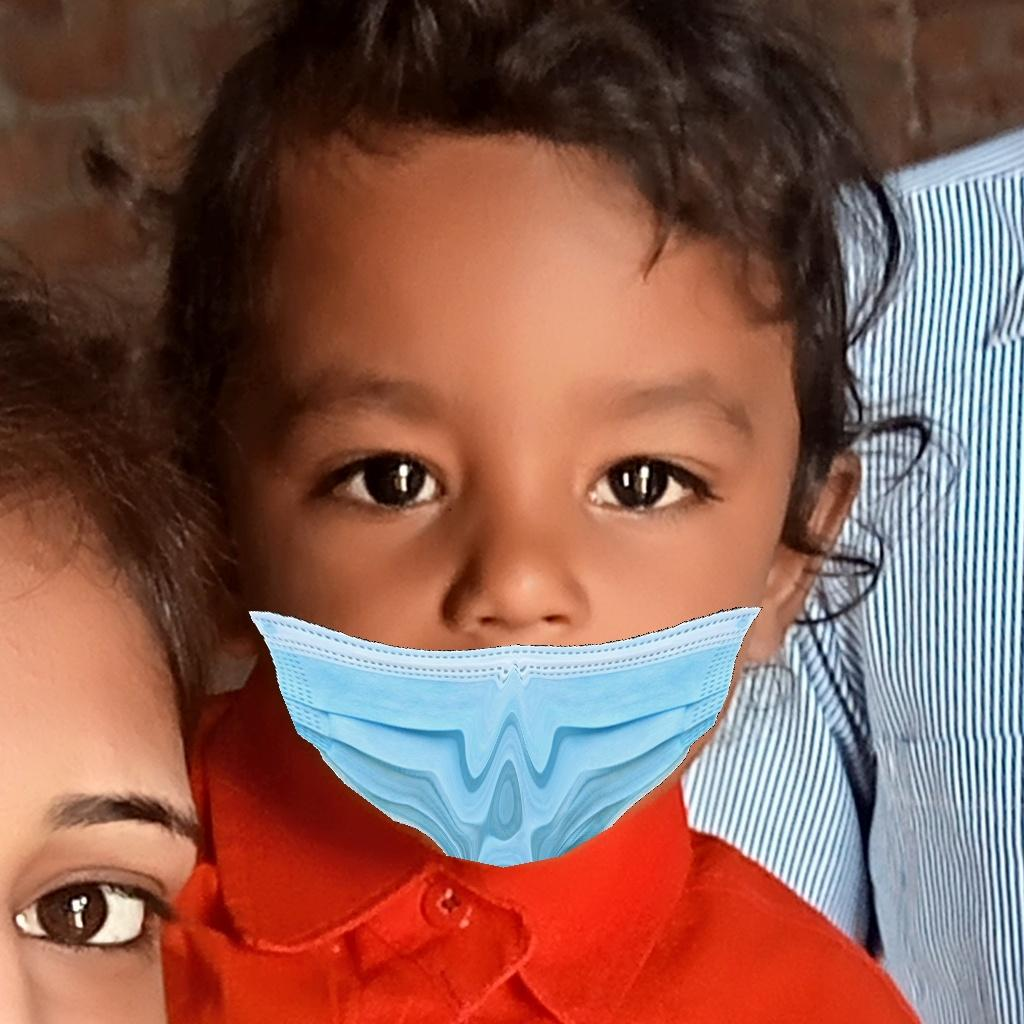Máscara Incorreta: (239, 299, 794, 859)
